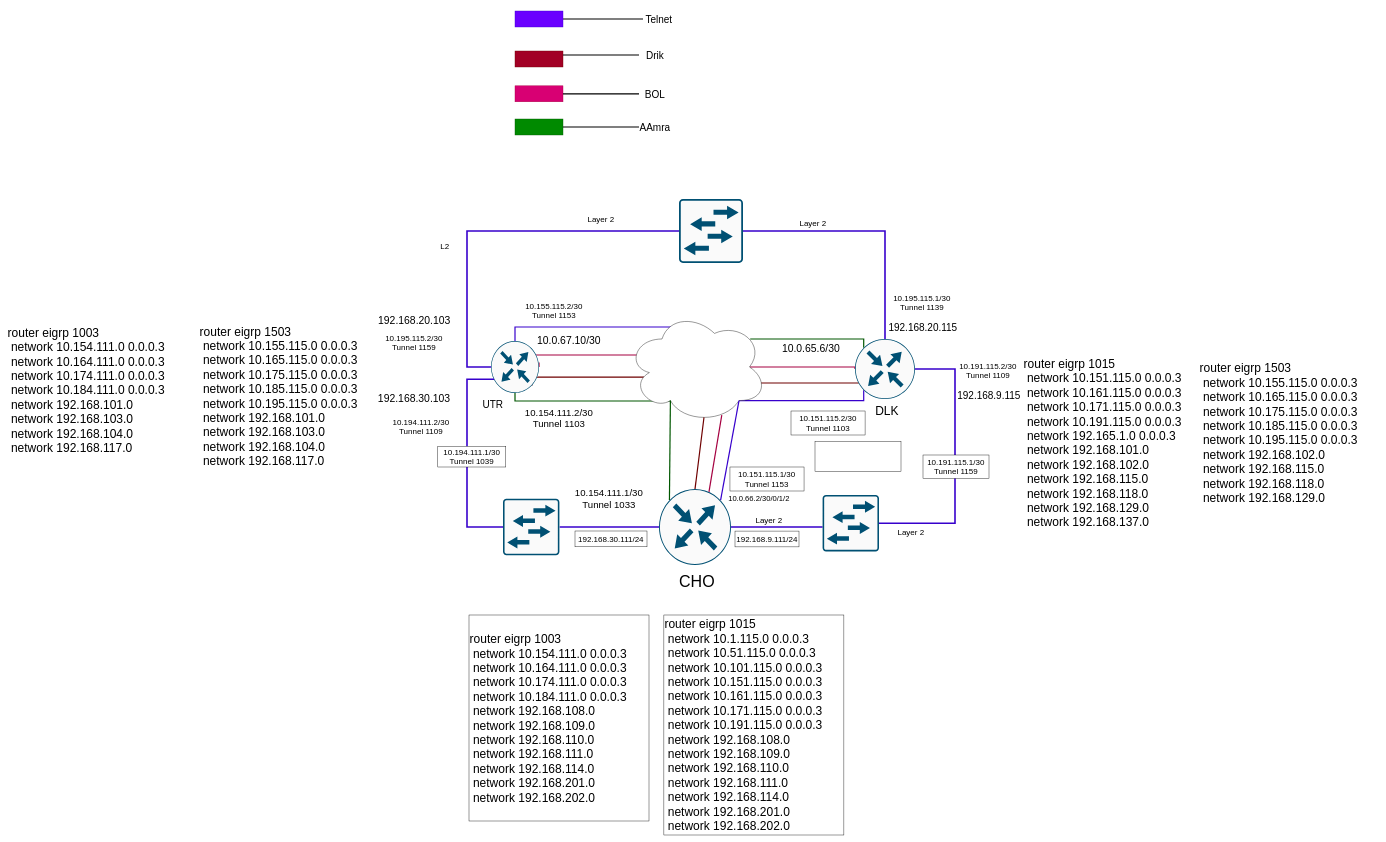
This 1386x842 diagram has some shape labels left out. The shapes that lost their labels are listed below. From the top down, each one's centre as x and y in pixels, then its label:
[697,367]: ISP Cloud
[858,456]: UTR-DRS to CHO 10.155.115.1/30 Tunnel 1033
